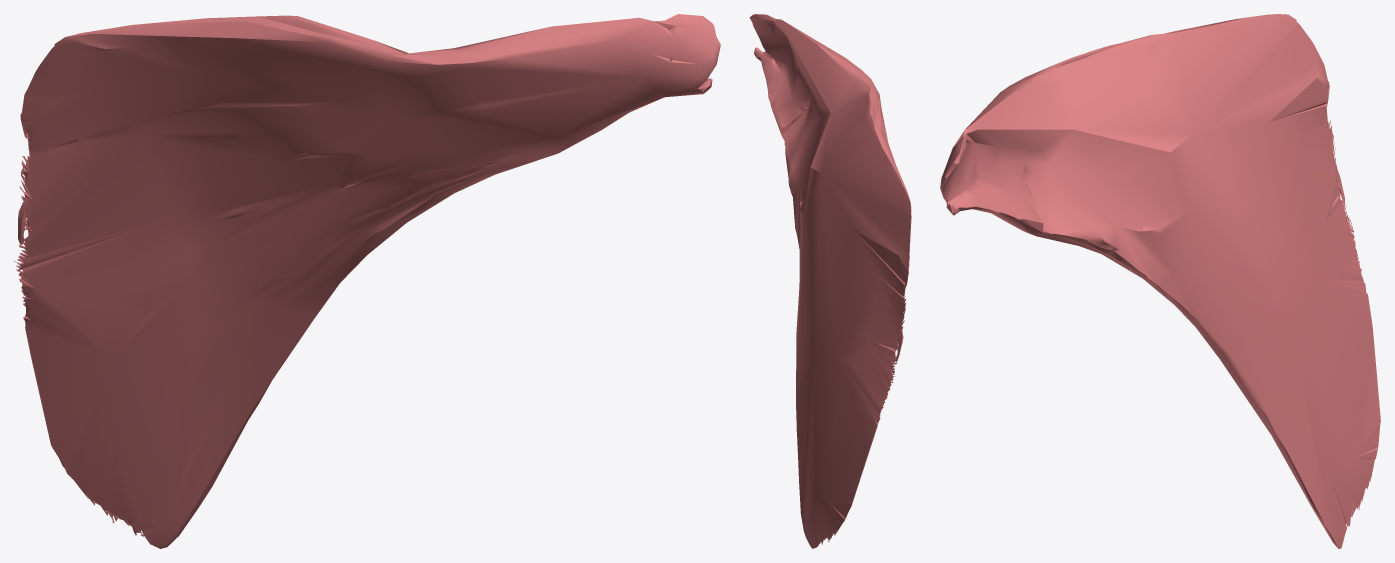
3 views of the same model, side by side, from view 1: azimuth 30°, elevation 25°; view 2: azimuth 150°, elevation 25°; view 3: azimuth 270°, elevation 25° (orthographic). The views are drawn at different scales.
Parts seen in each view (by area): view 1: FJ1504M; view 2: FJ1504M; view 3: FJ1504M.
Boxes of the visible parts, <box> form: FJ1504M: <box>14,14,720,548</box>; FJ1504M: <box>749,14,911,548</box>; FJ1504M: <box>940,14,1380,548</box>.
Size of the model in its own units: 0.1024 by 0.129 by 0.0967.
